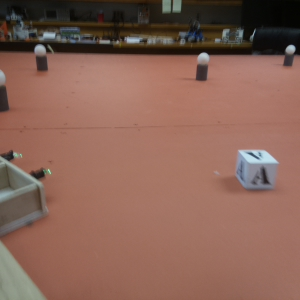blockA: (233, 148, 283, 194)
obstacle: (193, 51, 211, 82), (1, 66, 11, 113), (34, 45, 49, 71), (283, 46, 296, 66)
side: (1, 143, 47, 231)
